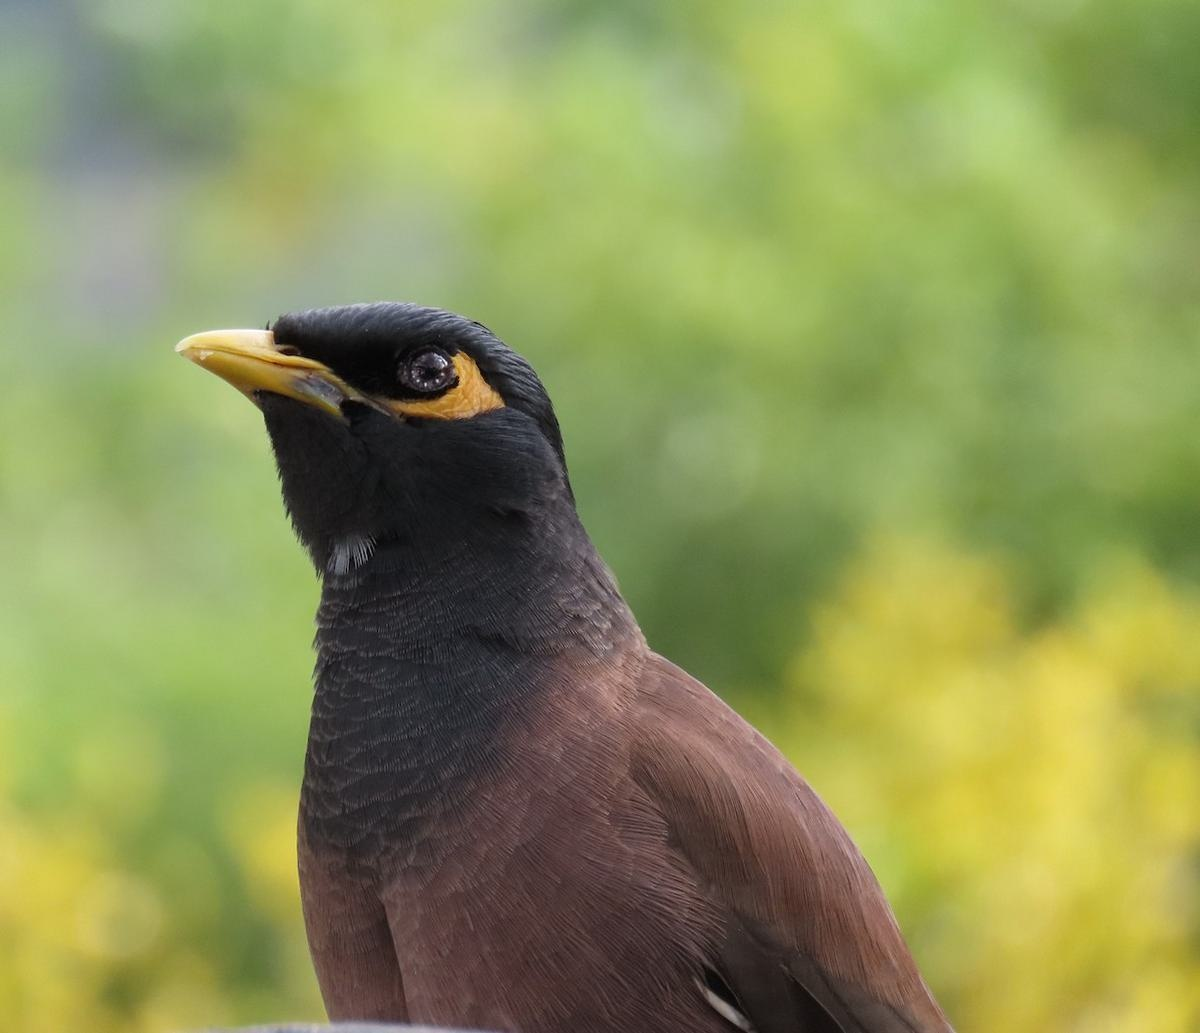myna: (150, 209, 887, 1033)
